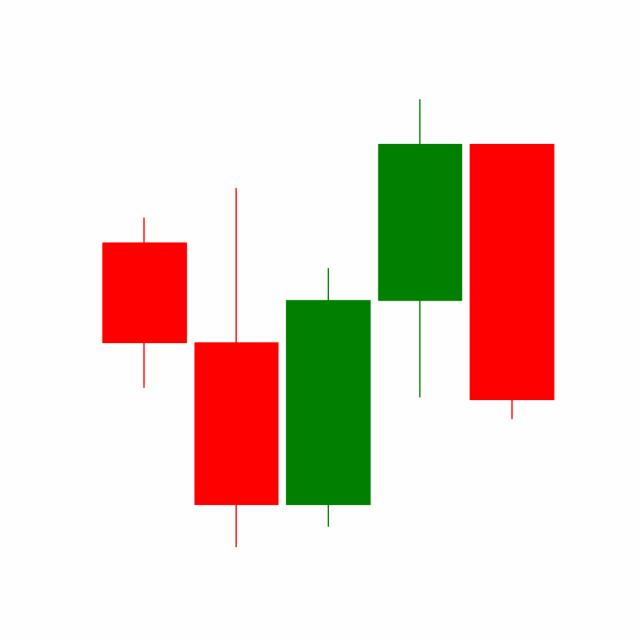Marubozu: (464, 141, 558, 422)
